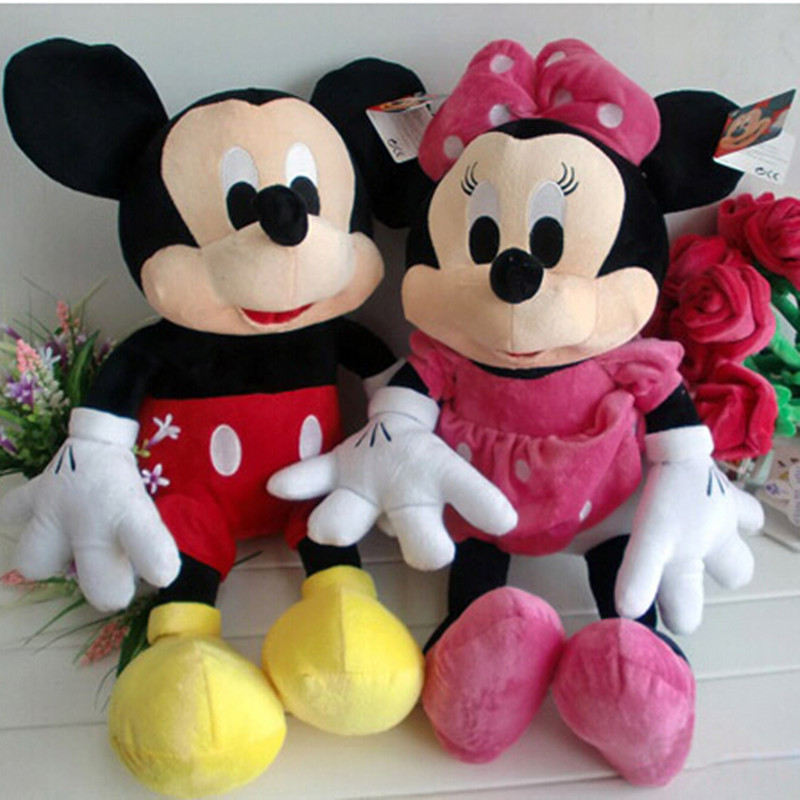Mickey: (2, 34, 427, 340)
